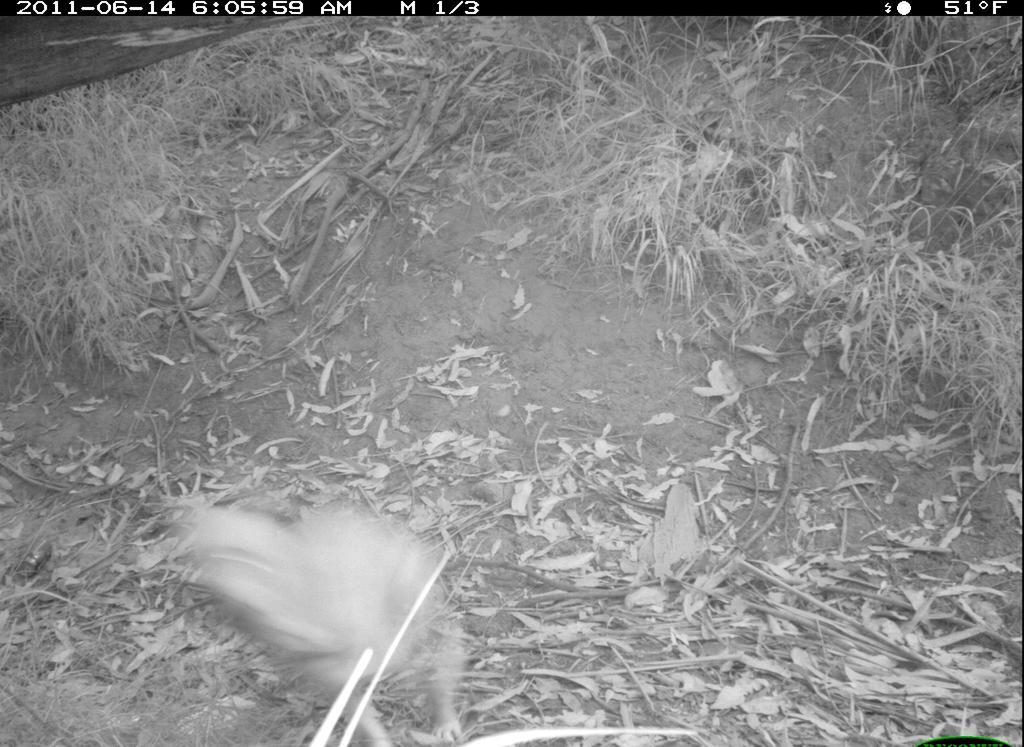dog: (172, 482, 486, 747)
